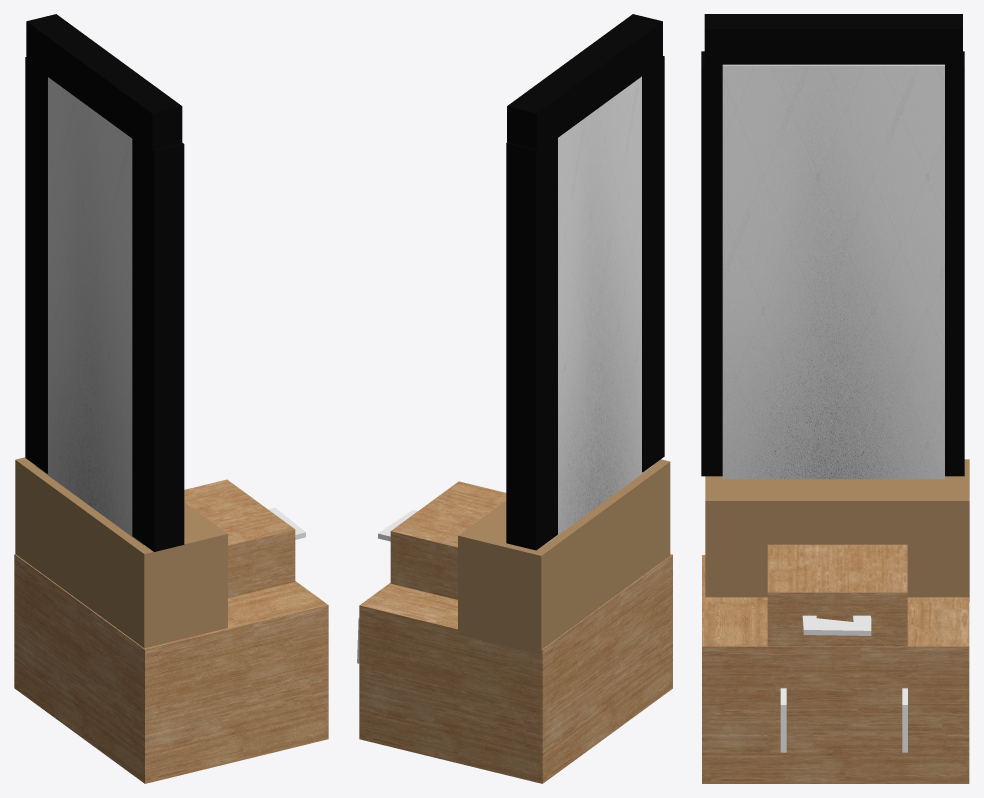
3 views of the same model, side by side, from view 1: azimuth 30°, elevation 25°; view 2: azimuth 150°, elevation 25°; view 3: azimuth 270°, elevation 25° (orthographic). The views are drawn at different scales.
Parts seen in each view (by area): view 1: Object_8, Object_5, Object_6, Object_4, Object_2, Object_3, Object_7; view 2: Object_8, Object_5, Object_6, Object_3, Object_2, Object_4, Object_7; view 3: Object_5, Object_8, Object_6, Object_7, Object_2, Object_4, Object_3, Object_11.
Part boxes in pixels (x1,y1,x2,y2): Object_8: [14, 554, 328, 783]; Object_5: [36, 77, 144, 545]; Object_6: [15, 457, 227, 648]; Object_4: [132, 136, 184, 551]; Object_2: [26, 14, 182, 152]; Object_3: [25, 57, 47, 473]; Object_7: [184, 479, 295, 598]; Object_8: [359, 554, 672, 783]; Object_5: [544, 76, 653, 544]; Object_6: [458, 459, 670, 654]; Object_3: [506, 134, 557, 550]; Object_2: [507, 14, 662, 152]; Object_4: [642, 56, 664, 472]; Object_7: [390, 481, 506, 599]; Object_5: [722, 64, 944, 479]; Object_8: [702, 555, 969, 783]; Object_6: [705, 459, 969, 601]; Object_7: [767, 544, 907, 646]; Object_2: [704, 14, 962, 69]; Object_4: [701, 51, 722, 476]; Object_3: [945, 51, 964, 476]; Object_11: [802, 615, 871, 635].
Size of the model in its own units: 136 by 403 by 144.
Materials: 10 (3 with a texture image).
